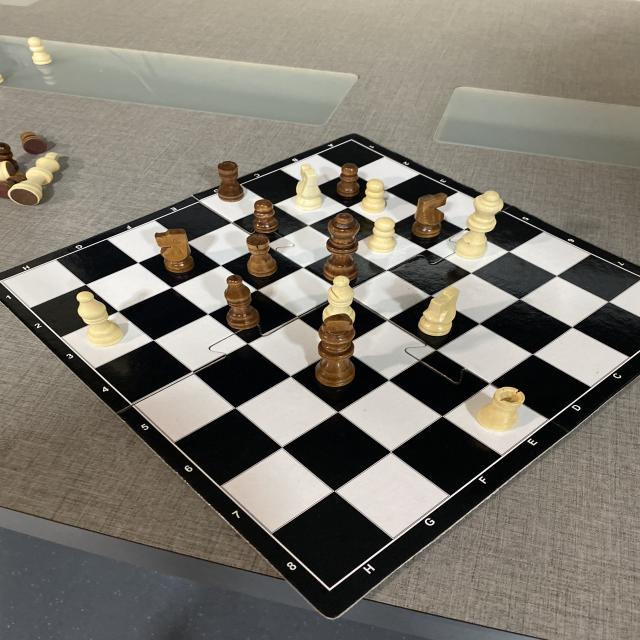Black-Bishop: (226, 275, 264, 331)
Black-King: (313, 313, 357, 387)
Black-Knight: (411, 191, 448, 239), (156, 227, 194, 273)
Black-Pawn: (18, 127, 54, 154), (252, 200, 278, 232), (0, 170, 29, 198), (338, 162, 360, 196)
Black-Queen: (322, 212, 363, 282)
Black-Rook: (245, 233, 278, 279), (218, 161, 243, 200)
White-Bishop: (77, 292, 125, 346), (321, 275, 357, 331)
White-King: (10, 150, 66, 206)
White-Knight: (418, 287, 461, 335), (294, 164, 324, 210)
White-Pawn: (370, 217, 396, 254), (360, 178, 385, 213), (28, 36, 54, 66)
White-Queen: (457, 190, 507, 257)
White-Rook: (476, 386, 528, 429)
